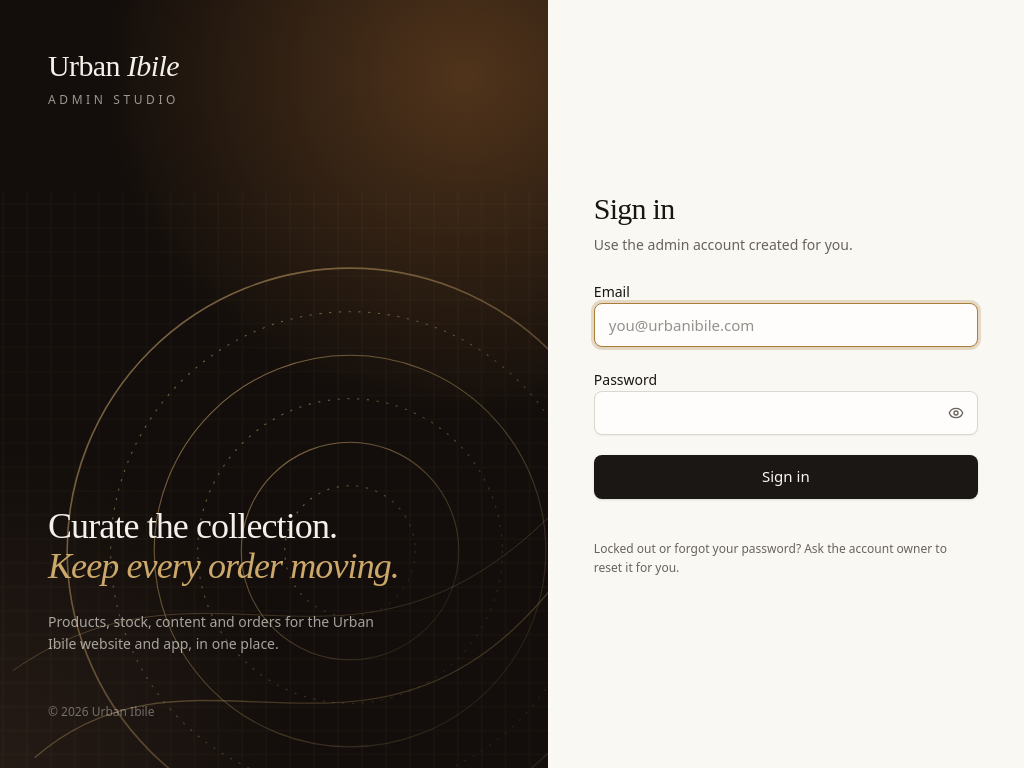
Test case: login page › shows when a locked account can try again
Type "locked@example.com" into the field labelled "Email" at (786, 324), box [594,302,978,346]
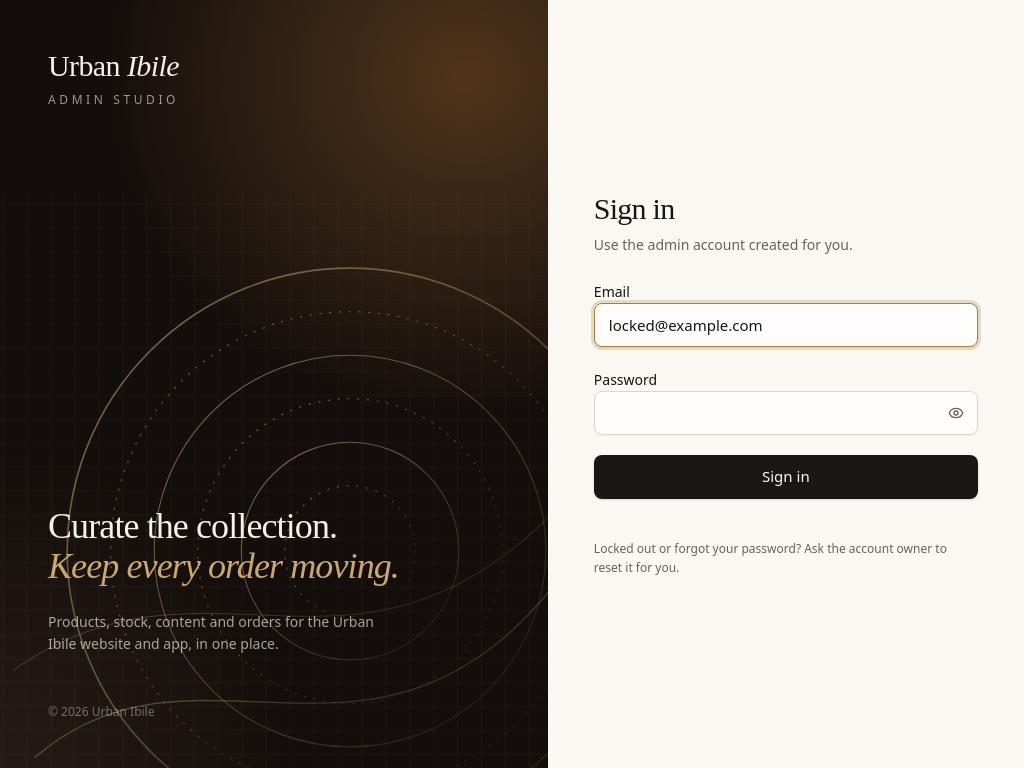
Type "any-password" into the password field labelled "Password" at (786, 412), box [594,390,978,434]
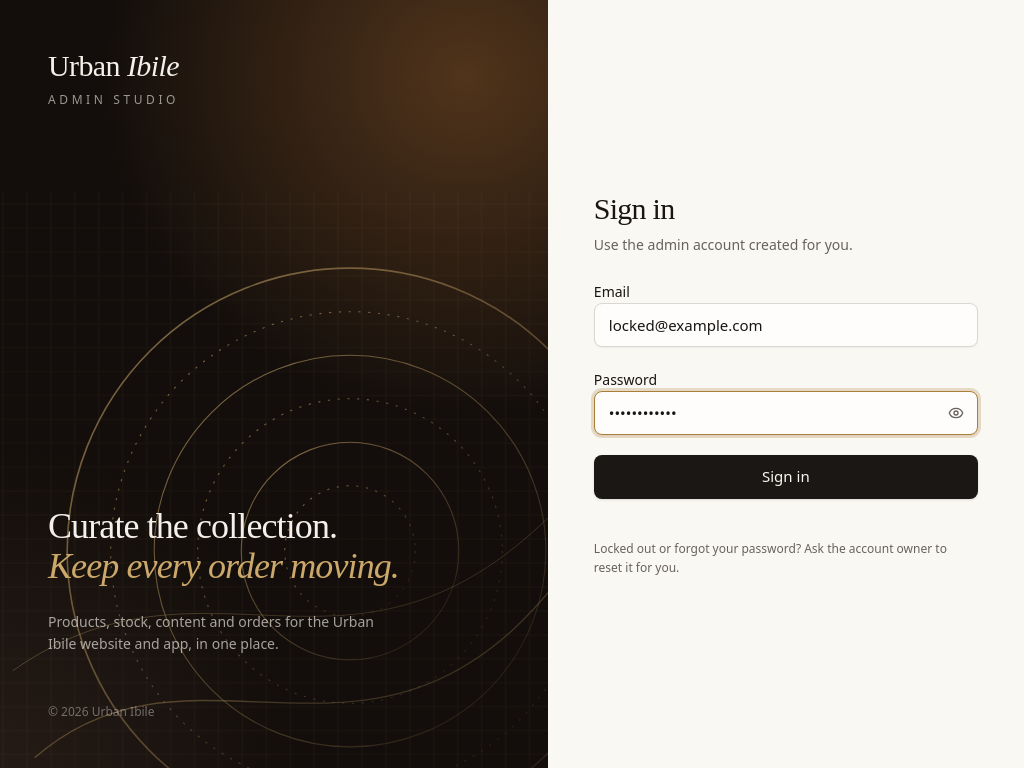
Click the button "Sign in" at (786, 476), box [594,454,978,498]
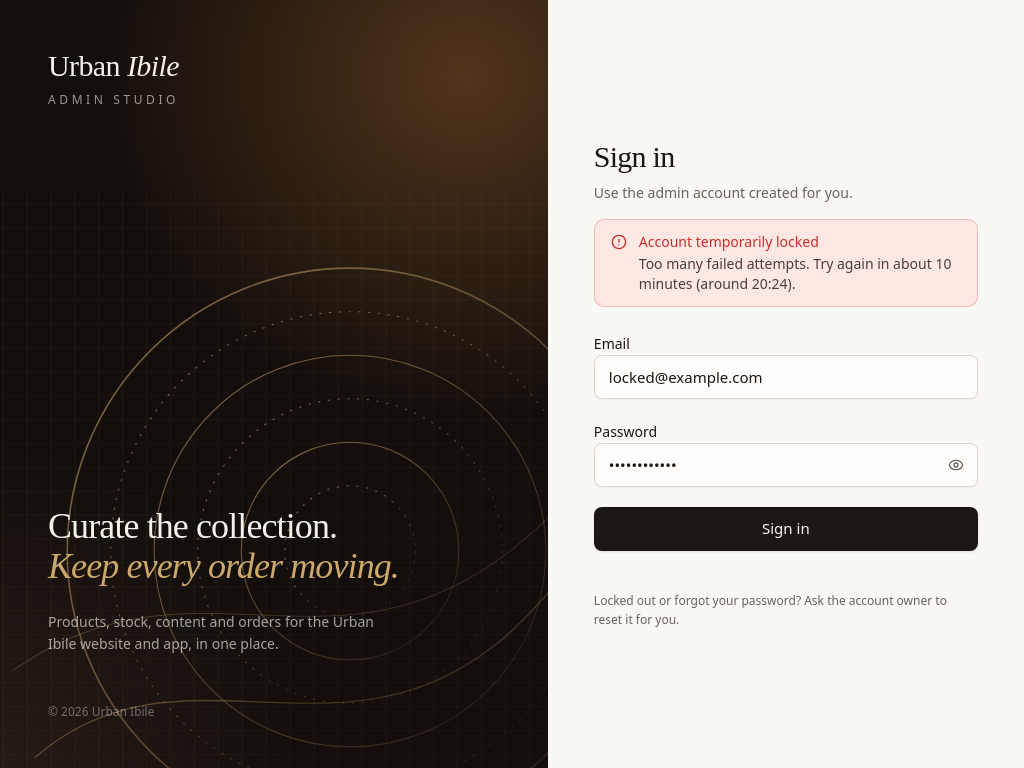
expect the message shows "Account temporarily locked": met, box [639,232,819,250]
